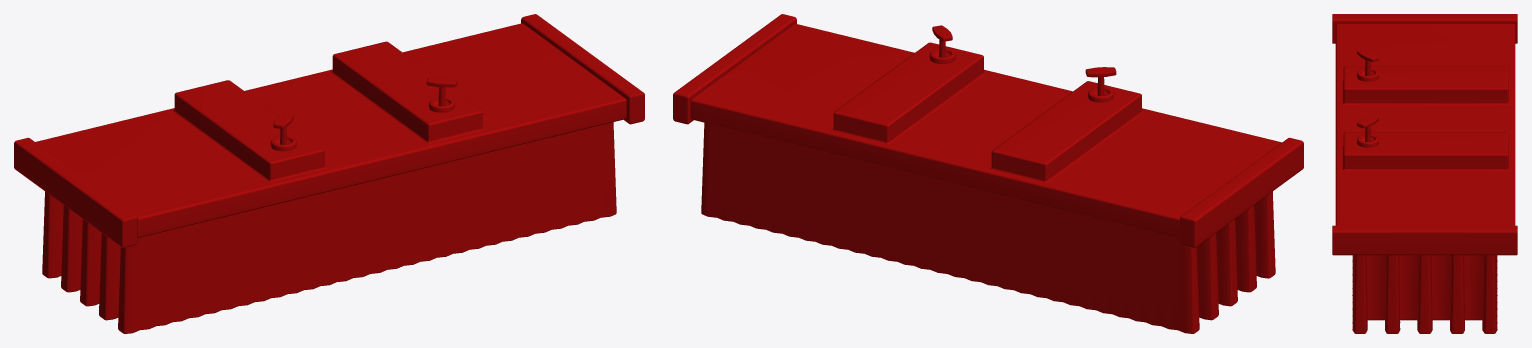
Rendered from SM_Attatchment_Brush1.fbx.
3 renders of one model, left to right at view 1: azimuth 30°, elevation 25°; view 2: azimuth 150°, elevation 25°; view 3: azimuth 270°, elevation 25°, orthographic. The views are drawn at different scales.
Visible parts, largest first — view 1: Brush_Base1; view 2: Brush_Base1; view 3: Brush_Base1.
Part boxes in pixels (<box>): Brush_Base1: <box>14,14,644,333</box>; Brush_Base1: <box>673,14,1303,333</box>; Brush_Base1: <box>1332,14,1517,333</box>.
Size of the model in its own units: 159 by 49.2 by 57.2.
